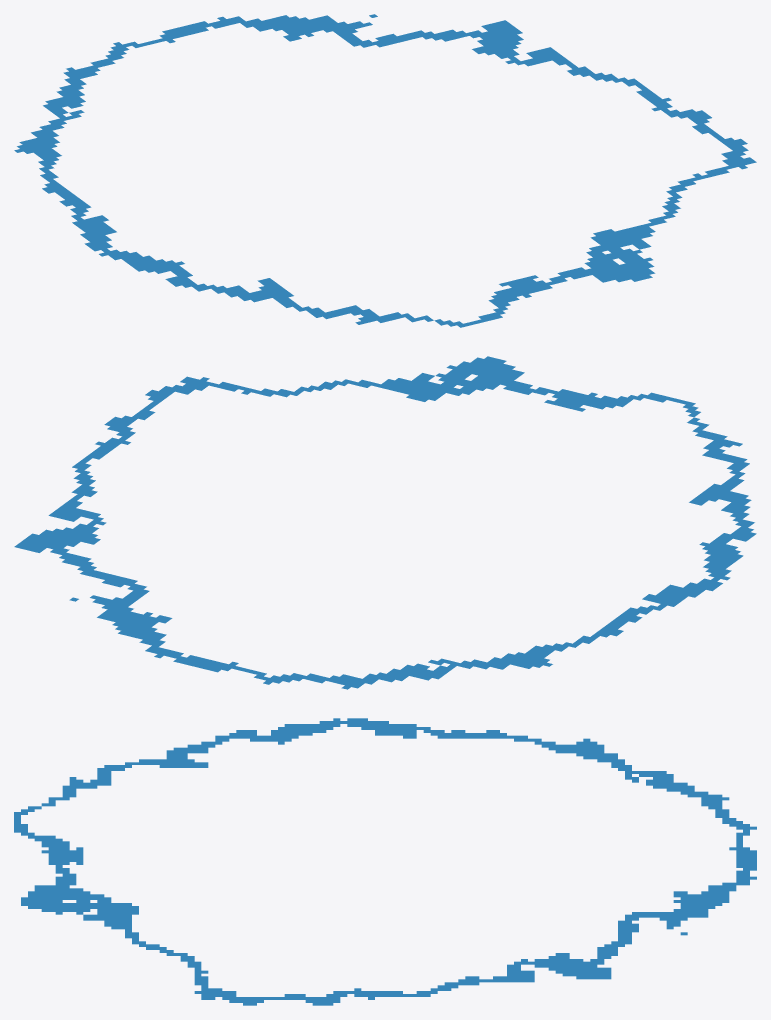
Rendered from Isl-start6-PlaceForWaterObjects.fbx.
3 views of the same model, one above another, from view 1: azimuth 30°, elevation 25°; view 2: azimuth 150°, elevation 25°; view 3: azimuth 270°, elevation 25° (orthographic). The views are drawn at different scales.
Visible parts, largest first — view 1: Isl-start6-PlaceForWaterObjects; view 2: Isl-start6-PlaceForWaterObjects; view 3: Isl-start6-PlaceForWaterObjects.
Boxes of the visible parts, x1,y1,x2,y2 form: Isl-start6-PlaceForWaterObjects: (14,14,756,327); Isl-start6-PlaceForWaterObjects: (14,356,756,689); Isl-start6-PlaceForWaterObjects: (14,718,756,1005).
Bounding box in the file's own units: 98 × 0 × 107.
